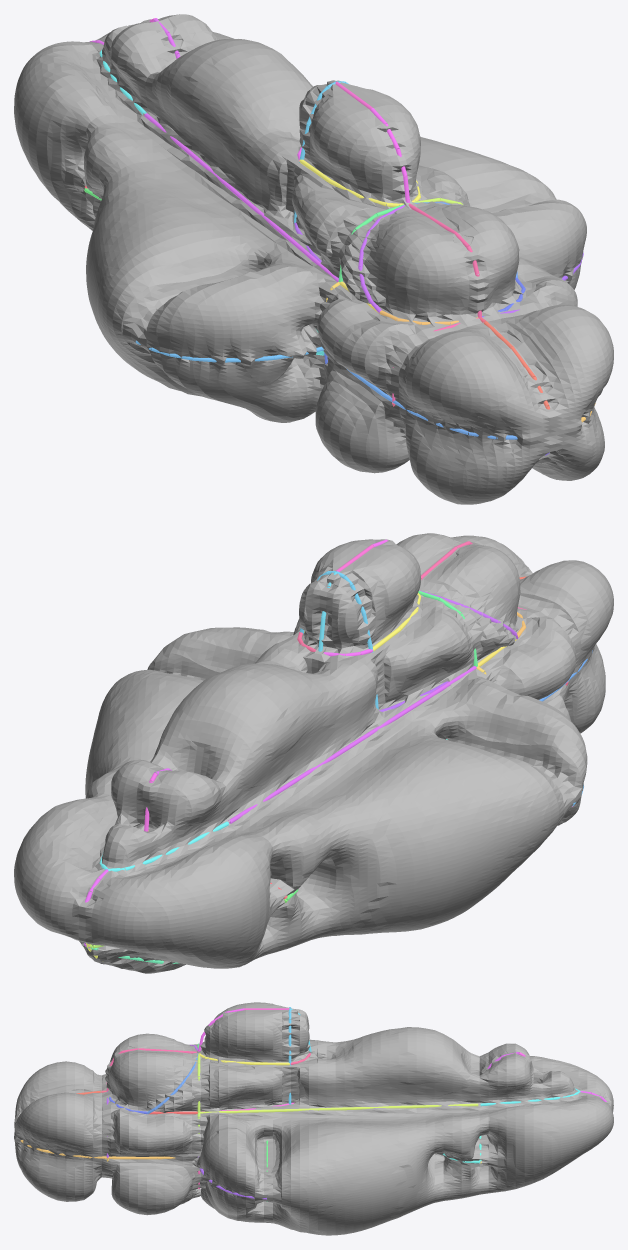
The model's file is scaffolds3d_submarine.gltf.
3 views of the same model, one above another, from view 1: azimuth 30°, elevation 25°; view 2: azimuth 150°, elevation 25°; view 3: azimuth 270°, elevation 25° (orthographic). The views are drawn at different scales.
Size of the model in its own units: 0.4691 by 0.3202 by 0.8623.
